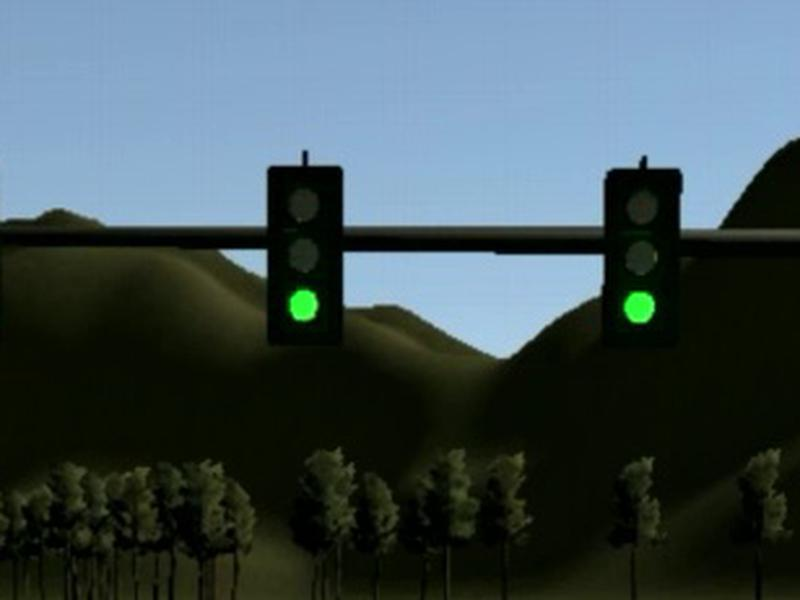Green: (266, 164, 345, 354), (601, 169, 683, 347)
